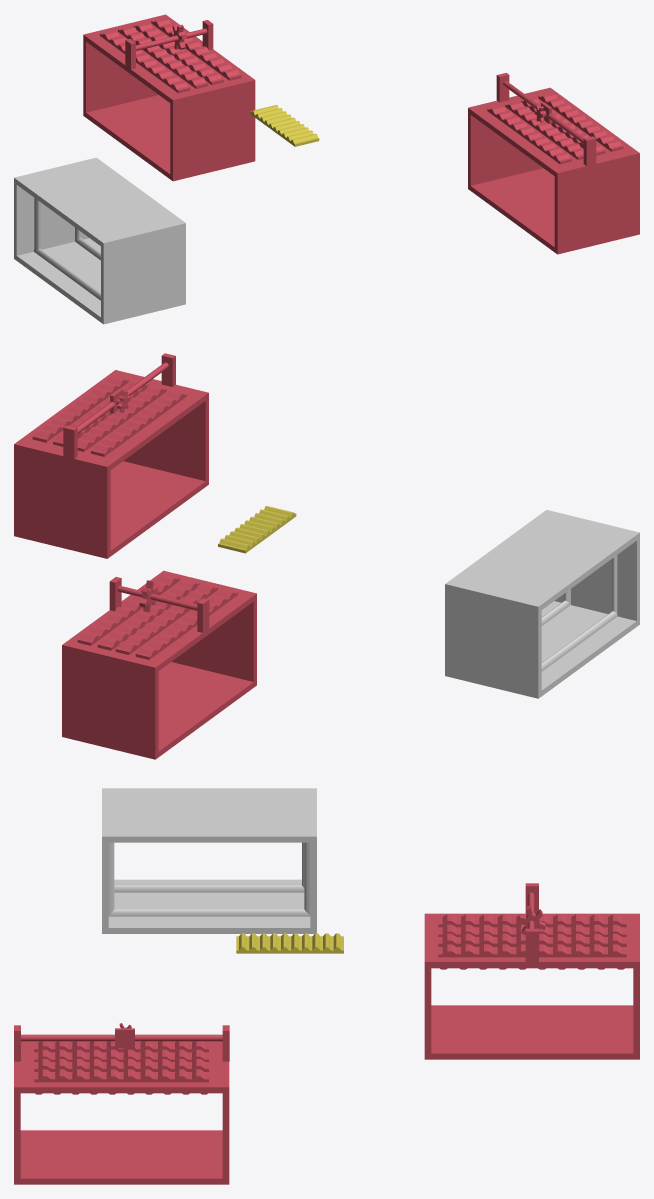
File: 1번 창문틀 후보.glb
3 views of the same model, one above another, from view 1: azimuth 30°, elevation 25°; view 2: azimuth 150°, elevation 25°; view 3: azimuth 270°, elevation 25° (orthographic). The views are drawn at different scales.
Parts seen in each view (by area): view 1: Mesh_Mesh_head_geo.001_lambert2SG.001; view 2: Mesh_Mesh_head_geo.001_lambert2SG.001; view 3: Mesh_Mesh_head_geo.001_lambert2SG.001.
Boxes of the visible parts, bbox=[...] form: Mesh_Mesh_head_geo.001_lambert2SG.001: bbox=[14, 14, 639, 324]; Mesh_Mesh_head_geo.001_lambert2SG.001: bbox=[14, 353, 639, 759]; Mesh_Mesh_head_geo.001_lambert2SG.001: bbox=[14, 788, 639, 1184].
Bounding box in the file's own units: 103 × 22 × 93.06.
